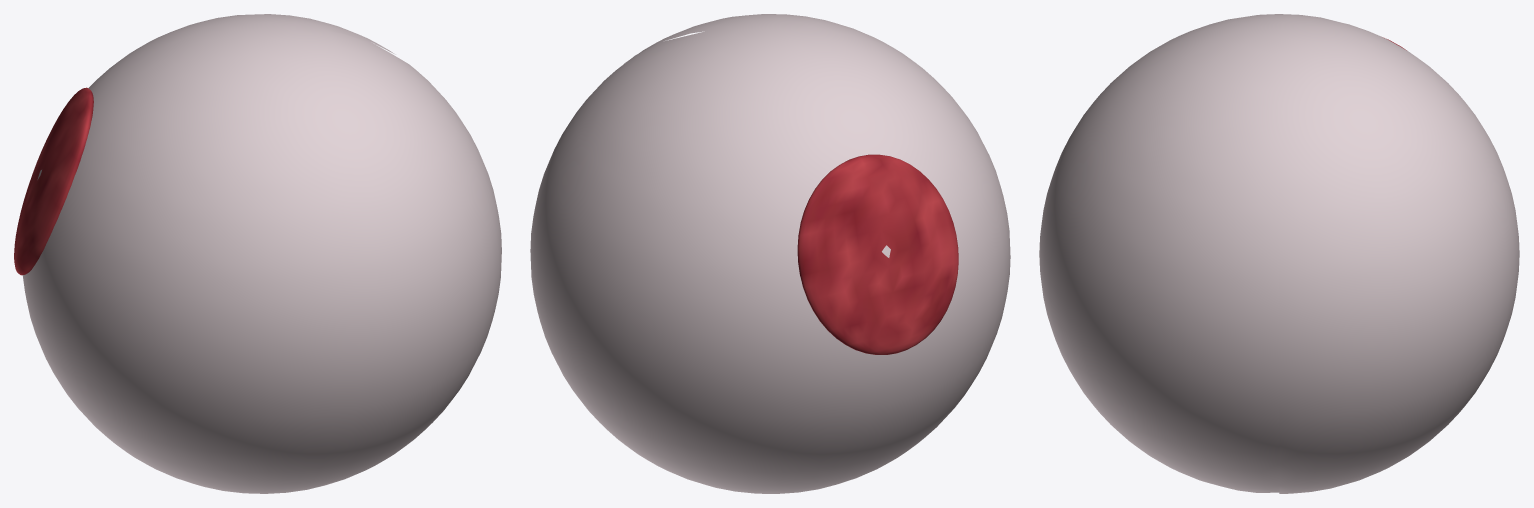
The model's file is hafta_06.glb.
3 renders of one model, left to right at view 1: azimuth 30°, elevation 25°; view 2: azimuth 150°, elevation 25°; view 3: azimuth 270°, elevation 25°, orthographic.
Visible parts, largest first — view 1: Amniyon_kesesi, Plasenta; view 2: Amniyon_kesesi, Plasenta; view 3: Amniyon_kesesi.
Boxes of the visible parts, bbox=[...] form: Amniyon_kesesi: bbox=[22, 14, 501, 493]; Plasenta: bbox=[14, 87, 93, 275]; Amniyon_kesesi: bbox=[530, 14, 1010, 493]; Plasenta: bbox=[797, 154, 958, 354]; Amniyon_kesesi: bbox=[1039, 14, 1519, 493].
Size of the model in its own units: 1.24 by 1.24 by 1.24.
